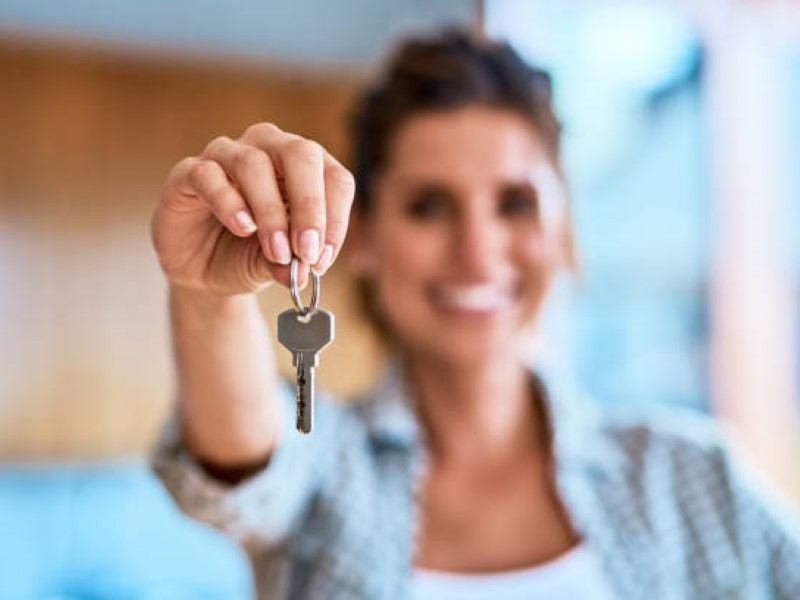key: (277, 303, 334, 437)
